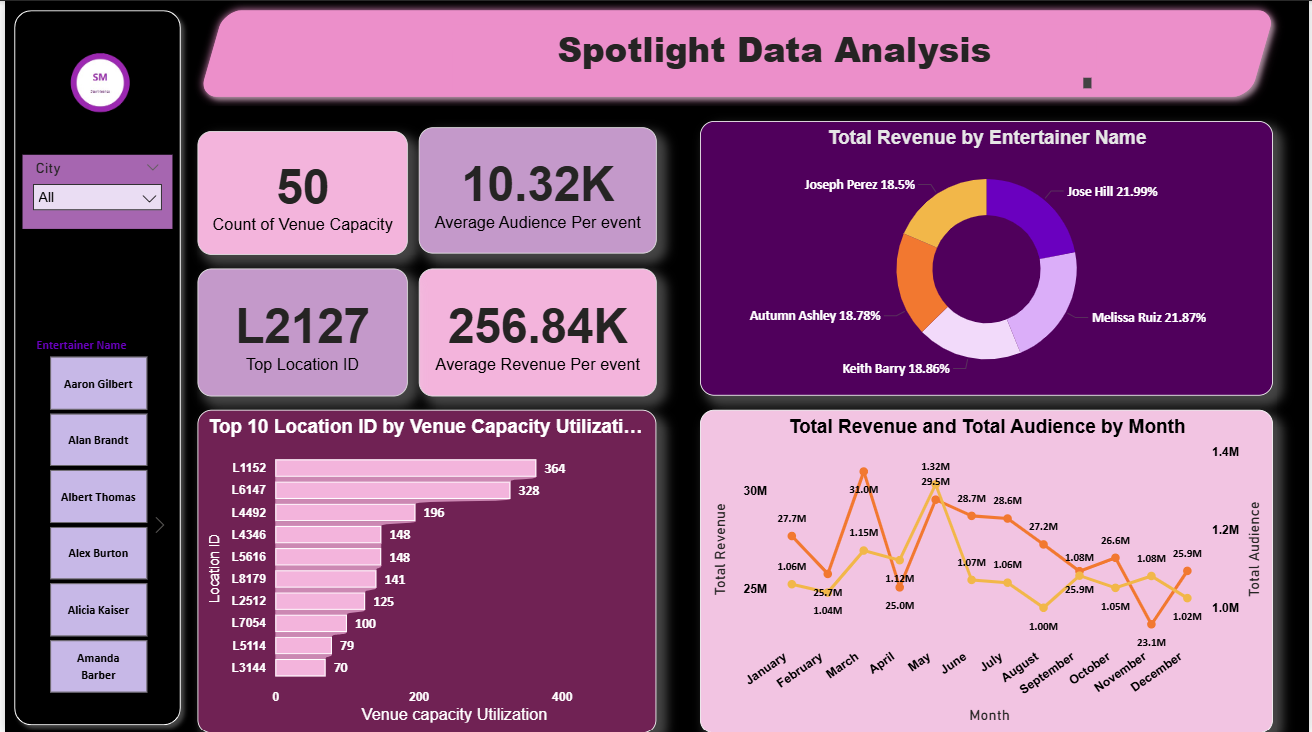

The page's visual inventory and layout, read from the dashboard file:
{"tool":"powerbi","page":{"name":"Detailed Analysis","canvas":[1280,720],"ordinal":1},"visuals":[{"type":"shape","box":[181.8,0,1074.2,103],"z":0},{"type":"shape","box":[0,0,181.5,720],"z":1000},{"type":"textbox","title":"Spotlight Data Analysis","box":[439.3,23.3,631.9,67.5],"z":2000},{"type":"card","fields":{"Values":["Locations.Venue Capacity"]},"box":[189.4,127.3,206.1,121.2],"z":4000},{"type":"card","fields":{"Values":["Entertainers.Average Audience Per event"]},"box":[406.1,124.2,233.3,124.2],"z":5000},{"type":"card","fields":{"Values":["Entertainers.Average Revenue Per event"]},"box":[406.1,262.1,233.3,125.8],"z":6000},{"type":"card","fields":{"Values":["Entertainers.Top Location ID"]},"box":[189.4,262.1,206.1,125.8],"z":7000},{"type":"barChart","title":"Top 10 Location ID by Venue Capacity Utilization","fields":{"Category":["Locations.Location ID"],"Y":["Entertainers.Venue capacity Utilization"]},"box":[189.4,401.5,450,318.2],"z":8000},{"type":"donutChart","fields":{"Category":["Entertainers.Entertainer Name"],"Y":["Entertainers.Total Revenue"]},"box":[681.8,118.2,562.1,269.7],"z":9000},{"type":"lineChart","fields":{"Y":["Entertainers.Total Revenue"],"Y2":["Entertainers.Total Audience"],"Category":["Performance Details.Event Date.Variation.Date Hierarchy.Month"]},"box":[681.8,401.5,562.1,318.2],"z":10000},{"type":"slicer","fields":{"Values":["Entertainers.Entertainer Name"]},"box":[16.7,325.8,147,362.1],"z":11000},{"type":"slicer","fields":{"Values":["Locations.City"]},"box":[16.7,151.5,147,72.7],"z":12000},{"type":"image","box":[16.7,22.7,121.2,124.2],"z":13000}]}

Visuals, with their boxes in screenshot pixels (x1, y1, x2, y2), scaled from the page's 1280x720 canvas onto the 1312x732 screenshot:
shape: x1=186 y1=0 x2=1287 y2=105
shape: x1=0 y1=0 x2=186 y2=731
"Spotlight Data Analysis" textbox: x1=450 y1=24 x2=1098 y2=92
card - Locations.Venue Capacity: x1=194 y1=129 x2=405 y2=253
card - Entertainers.Average Audience Per event: x1=416 y1=126 x2=655 y2=253
card - Entertainers.Average Revenue Per event: x1=416 y1=266 x2=655 y2=394
card - Entertainers.Top Location ID: x1=194 y1=266 x2=405 y2=394
"Top 10 Location ID by Venue Capacity Utilization" barChart: x1=194 y1=408 x2=655 y2=731
donutChart - Entertainers.Entertainer Name x Entertainers.Total Revenue: x1=699 y1=120 x2=1275 y2=394
lineChart - Entertainers.Total Revenue x Entertainers.Total Audience: x1=699 y1=408 x2=1275 y2=731
slicer - Entertainers.Entertainer Name: x1=17 y1=331 x2=168 y2=699
slicer - Locations.City: x1=17 y1=154 x2=168 y2=228
image: x1=17 y1=23 x2=141 y2=149
